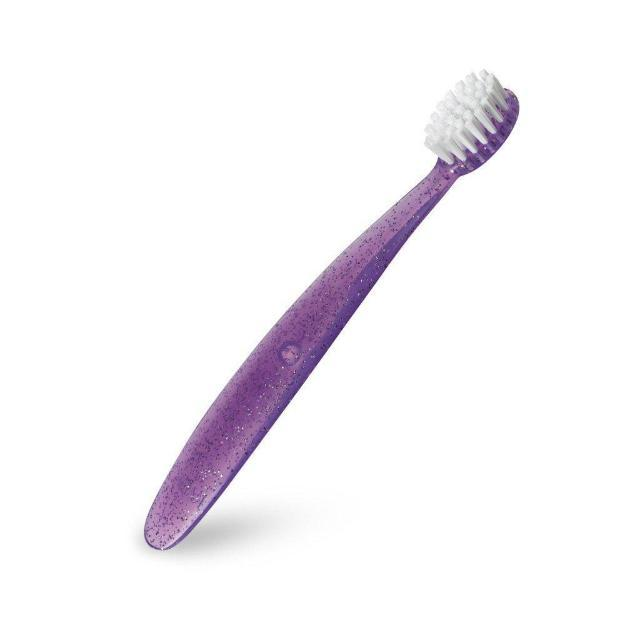toothbrush: (56, 59, 590, 582)
